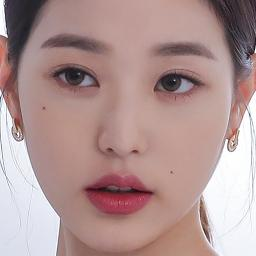face: (26, 0, 224, 252)
